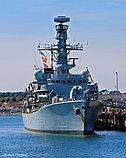MIL_Ship: (20, 14, 103, 134)
